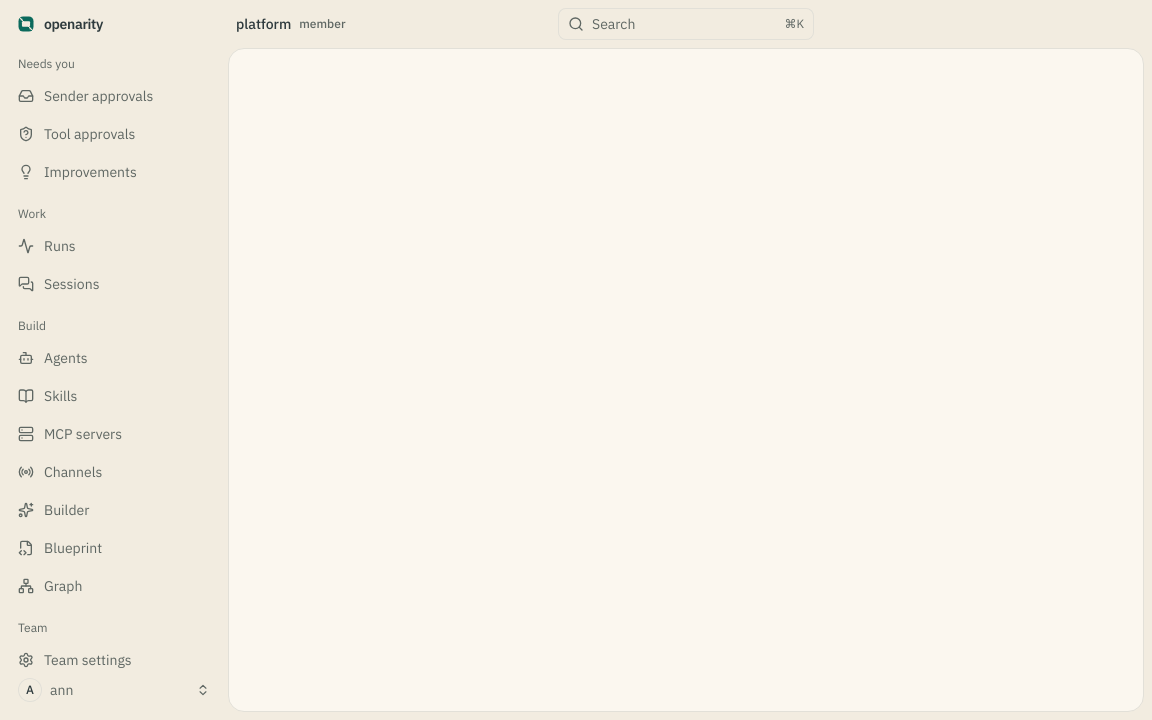
Test: asking the team from the palette › offers no asking to someone who may not start runs
(page scrolled)
expect the navigation bar named "Main" is shown: met, box left=8, top=48, right=220, bottom=672
Type keys "{Meta>}k{/Meta}"
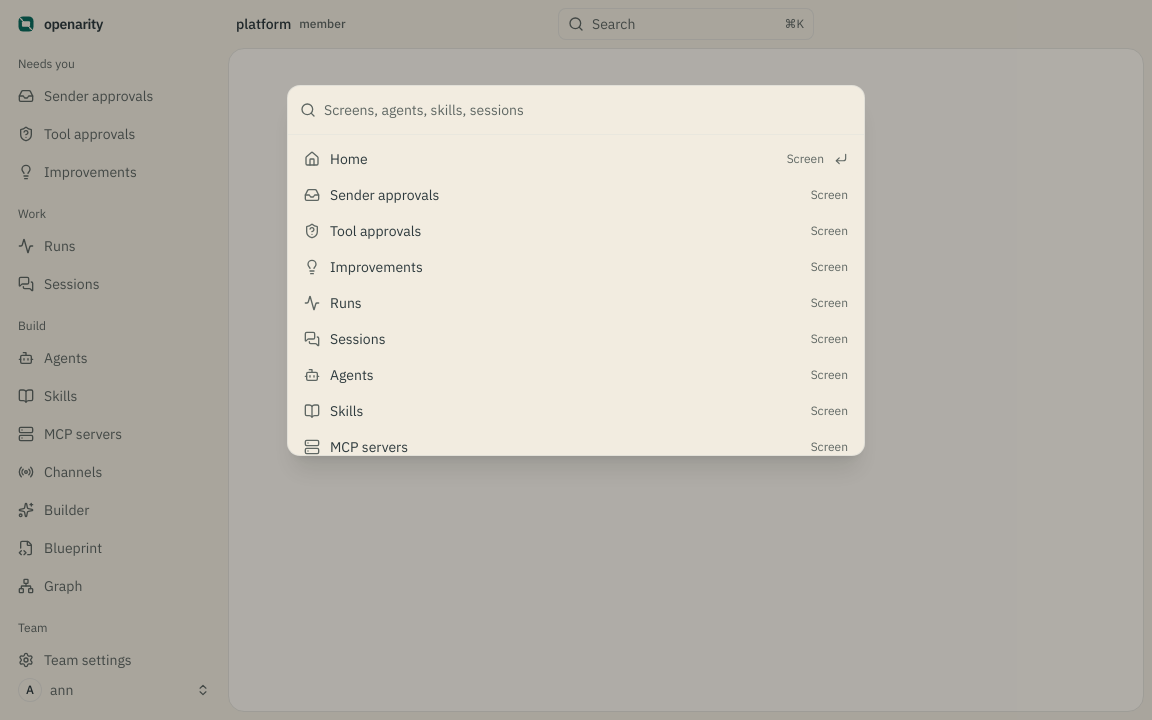
In the dropdown: (588, 110) left=324, top=86, right=852, bottom=134, type "why did the deploy fail"
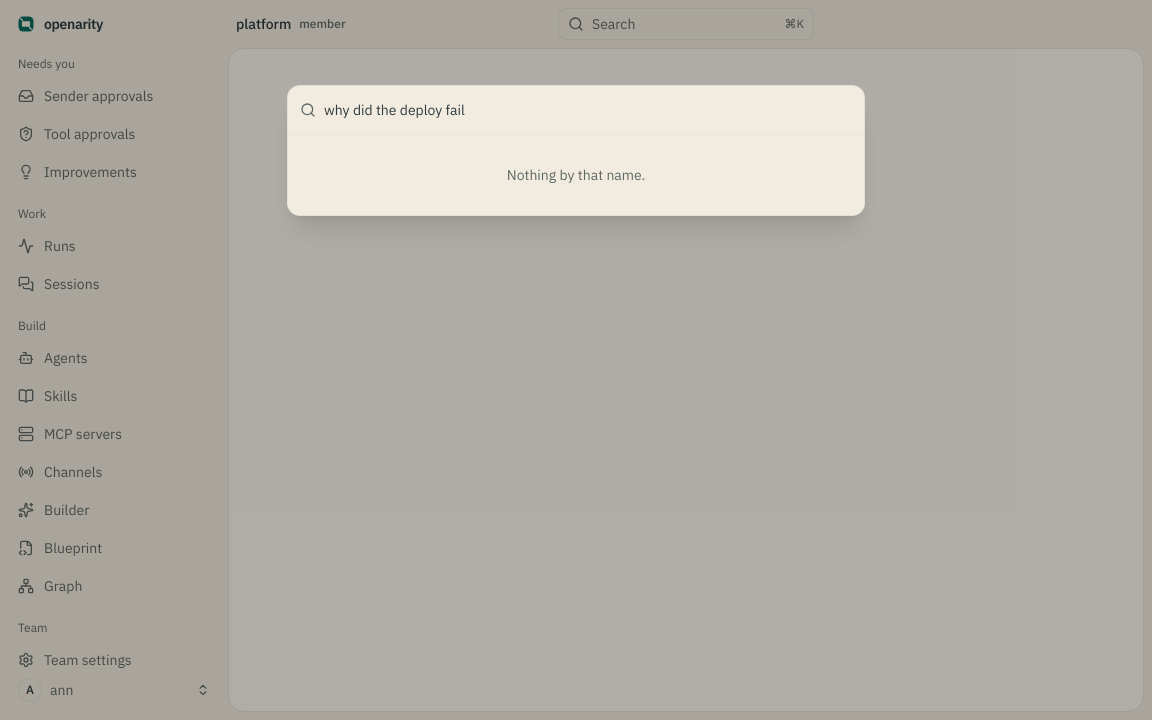
expect the text "Nothing by that name." is shown: met, box left=507, top=166, right=645, bottom=184
